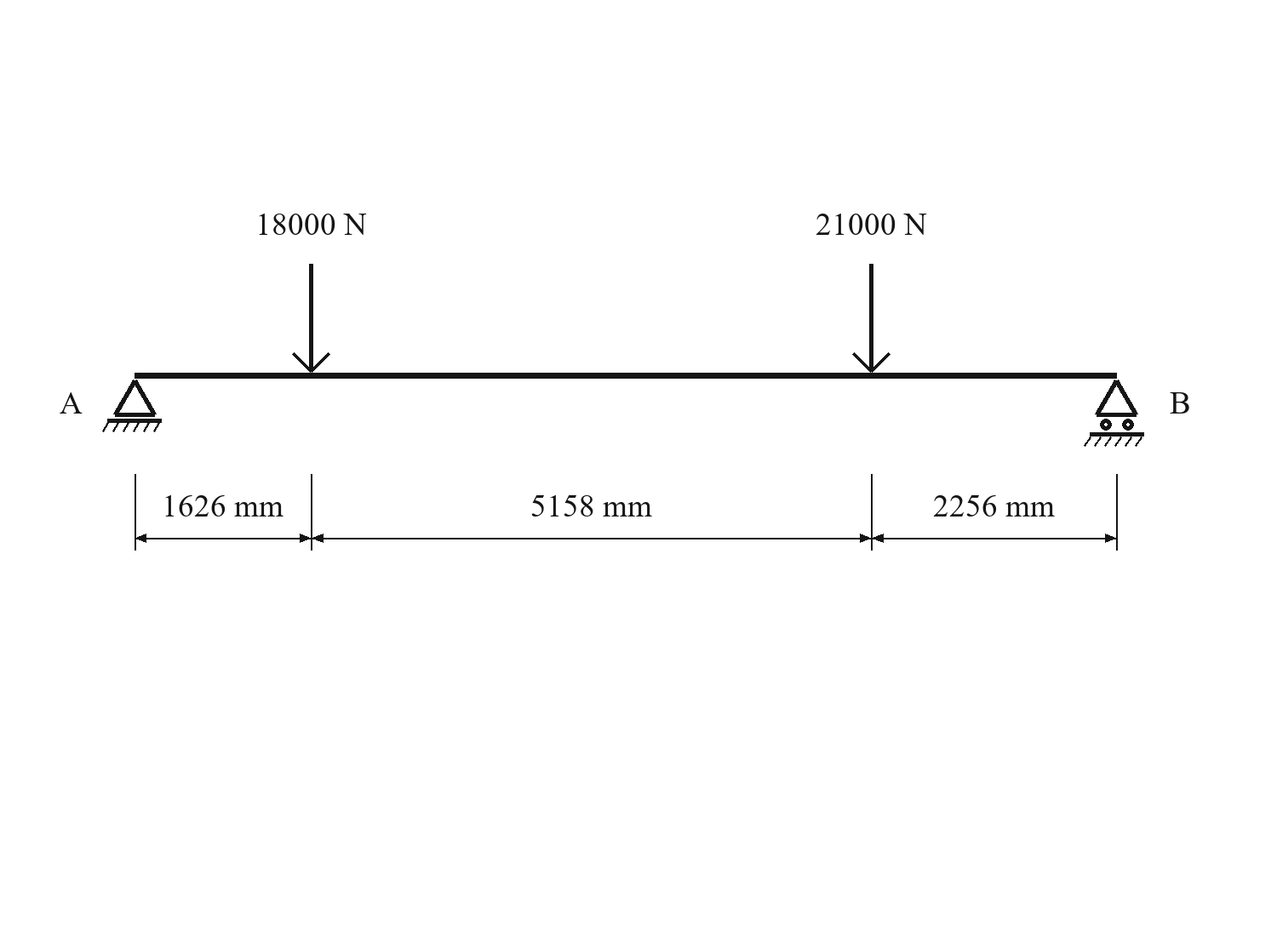pin_support: (102, 380, 162, 432)
point_load: (292, 264, 330, 373), (852, 264, 890, 373)
roller_support: (1084, 380, 1144, 447)
